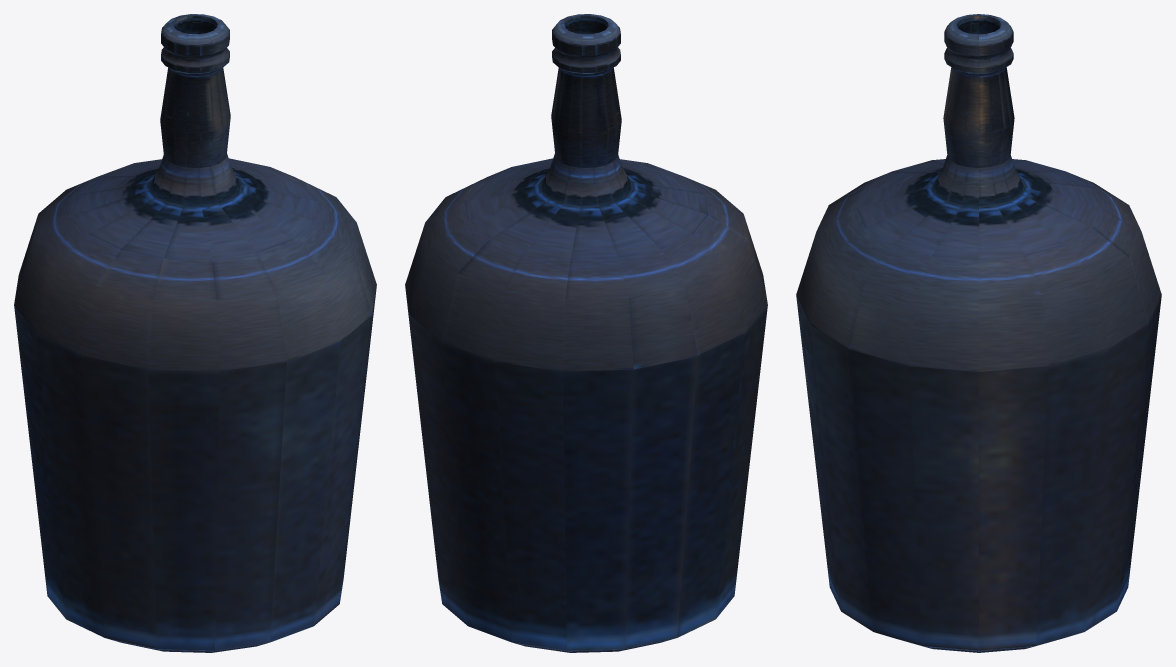
File: jug01.fbx
3 renders of one model, left to right at view 1: azimuth 30°, elevation 25°; view 2: azimuth 150°, elevation 25°; view 3: azimuth 270°, elevation 25°, orthographic.
Visible parts, largest first — view 1: bottle01; view 2: bottle01; view 3: bottle01.
Boxes of the visible parts, x1,y1,x2,y2 form: bottle01: (14,14,376,652); bottle01: (405,14,767,652); bottle01: (796,14,1161,652).
Size of the model in its own units: 0.4017 by 0.4017 by 0.6988.
1 material, 1 textured.
